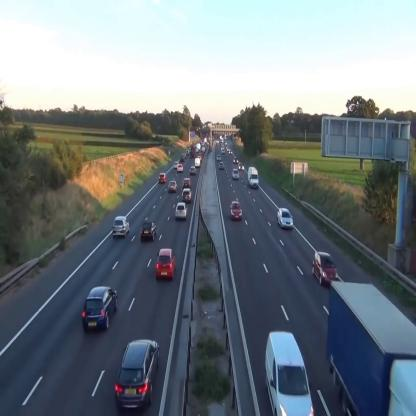car: (115, 338, 160, 410), (82, 287, 118, 331), (312, 252, 338, 286), (156, 247, 176, 280), (277, 209, 294, 230), (112, 216, 130, 235), (140, 221, 156, 240), (230, 202, 242, 220), (176, 202, 188, 219), (182, 188, 192, 202), (168, 181, 177, 192), (158, 172, 166, 183), (183, 177, 190, 188), (232, 168, 239, 179), (190, 166, 196, 174), (177, 164, 183, 171)
lorry: (327, 278, 416, 416), (266, 331, 314, 416), (247, 166, 258, 188)
